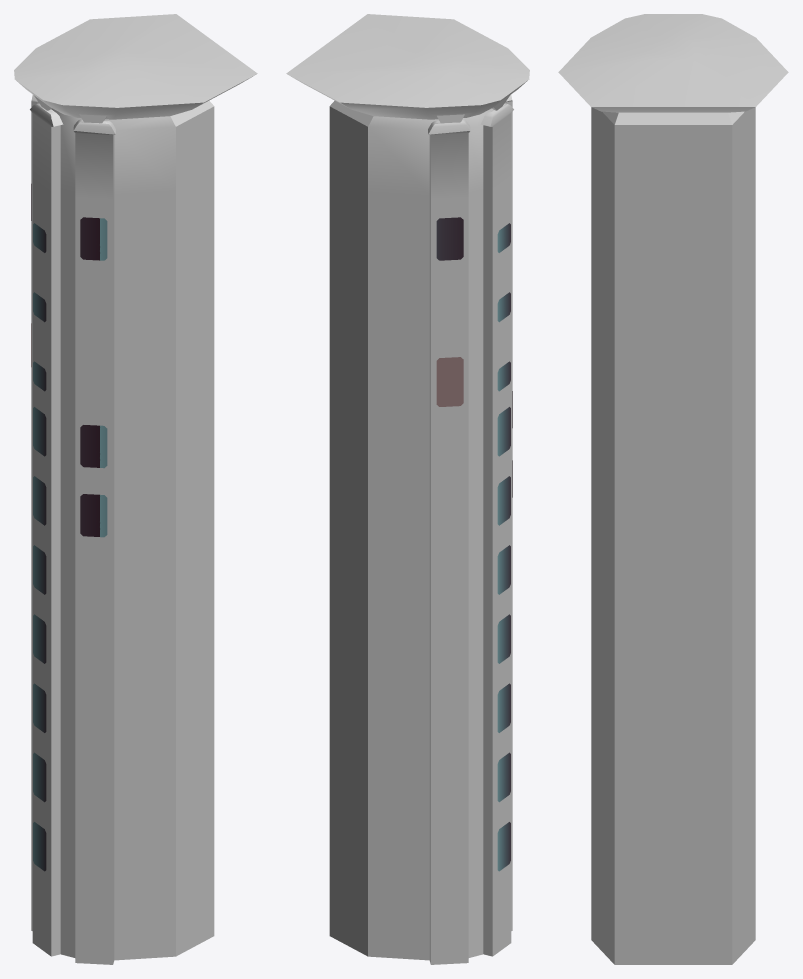
Rendered from fondo_edificioE.fbx.
The picture shows the model from 3 angles, left to right: view 1: azimuth 30°, elevation 25°; view 2: azimuth 150°, elevation 25°; view 3: azimuth 270°, elevation 25°; orthographic projection.
Visible parts, largest first — view 1: edificioA.004; view 2: edificioA.004; view 3: edificioA.004.
Boxes of the visible parts, <box> form: edificioA.004: <box>14,14,257,964</box>; edificioA.004: <box>286,14,529,964</box>; edificioA.004: <box>558,14,788,964</box>.
Size of the model in its own units: 760 by 3351 by 795.
